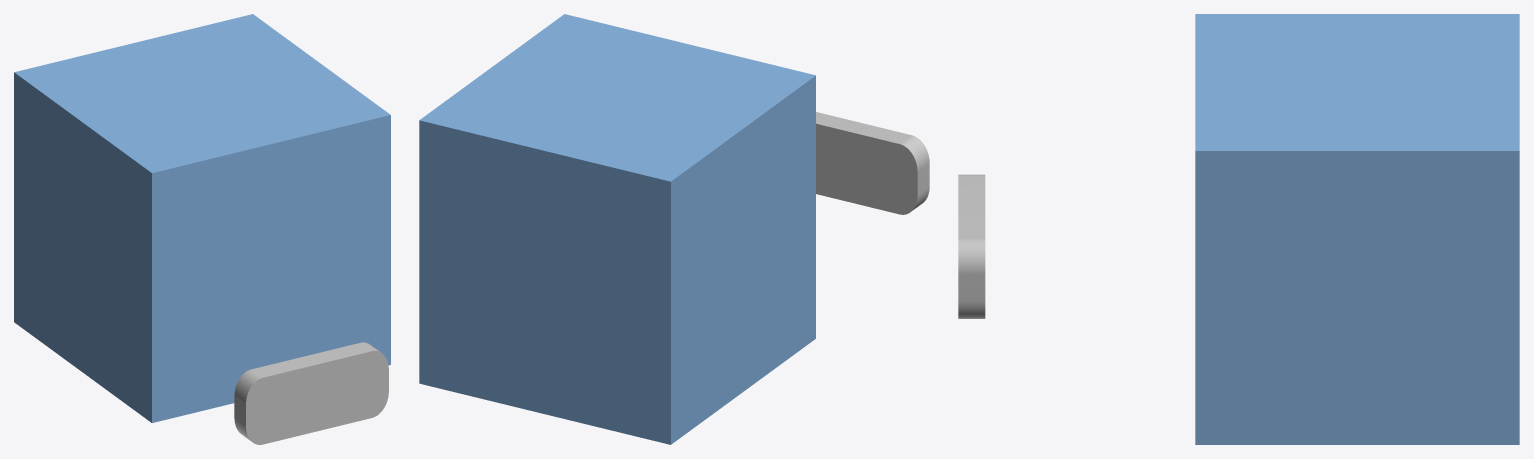
3 renders of one model, left to right at view 1: azimuth 30°, elevation 25°; view 2: azimuth 150°, elevation 25°; view 3: azimuth 270°, elevation 25°, orthographic. The views are drawn at different scales.
Parts seen in each view (by area): view 1: Cube, Mesh_0; view 2: Cube, Mesh_0; view 3: Cube, Mesh_0.
Part boxes in pixels (x1,y1,x2,y2): Cube: (14, 14, 390, 422); Mesh_0: (234, 342, 388, 444); Cube: (419, 14, 815, 444); Mesh_0: (816, 112, 929, 214); Cube: (1195, 14, 1519, 444); Mesh_0: (958, 174, 985, 318).
Size of what is drawn, in the model's own units: 2.06 by 2 by 3.46.
